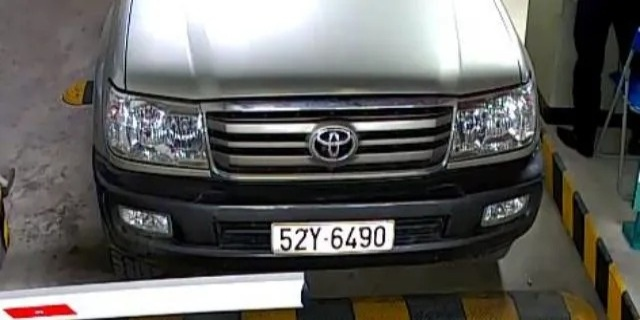bien_so: (273, 222, 393, 253)
